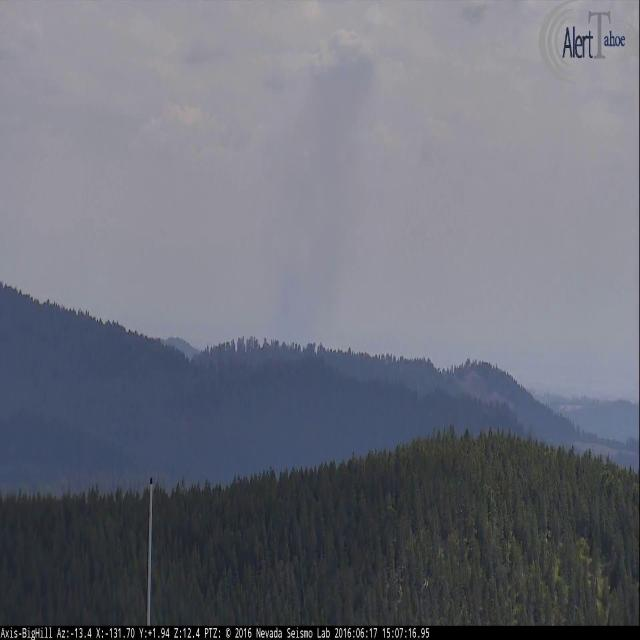smoke: (268, 50, 374, 346)
